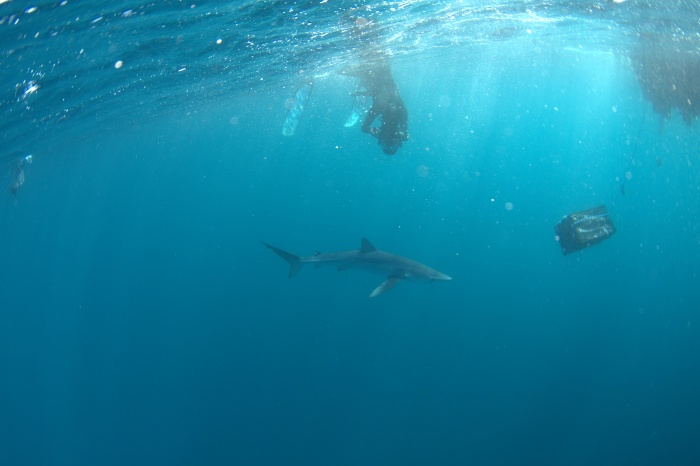Azul: (252, 220, 461, 309)
